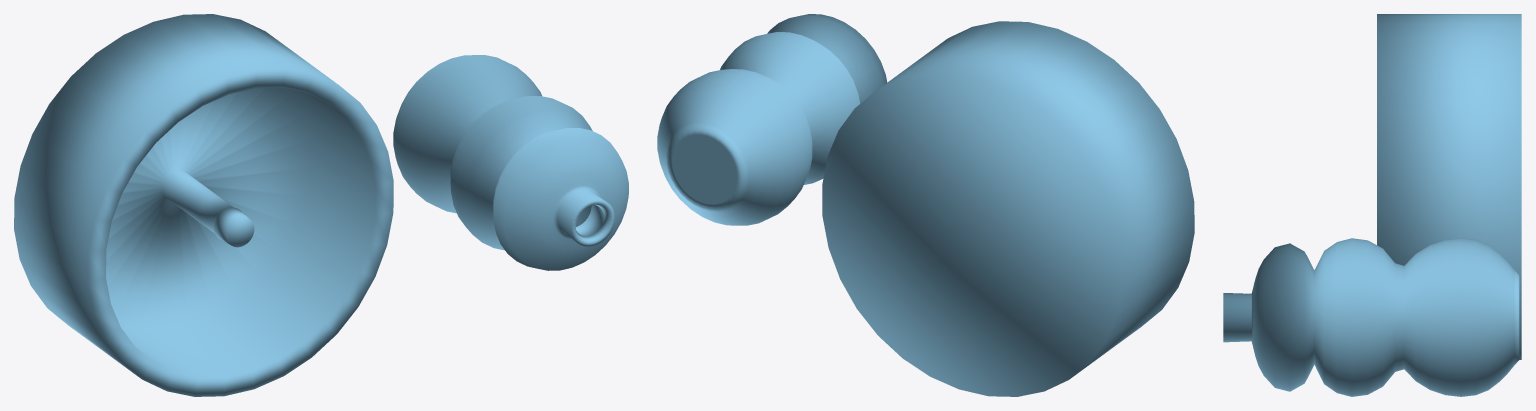
3 views of the same model, side by side, from view 1: azimuth 30°, elevation 25°; view 2: azimuth 150°, elevation 25°; view 3: azimuth 270°, elevation 25° (orthographic). The views are drawn at different scales.
Parts seen in each view (by area): view 1: Object_2; view 2: Object_2; view 3: Object_2.
Part boxes in pixels (box(x1,y1,x2,y2)): Object_2: box(14, 14, 628, 396); Object_2: box(657, 14, 1194, 396); Object_2: box(1223, 14, 1521, 396).
Size of the model in its own units: 2.72 by 1.68 by 1.45.
